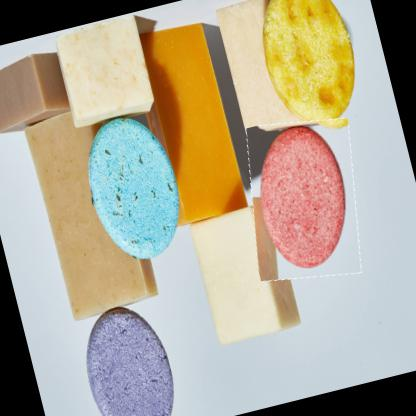soap: (230, 108, 378, 292)
